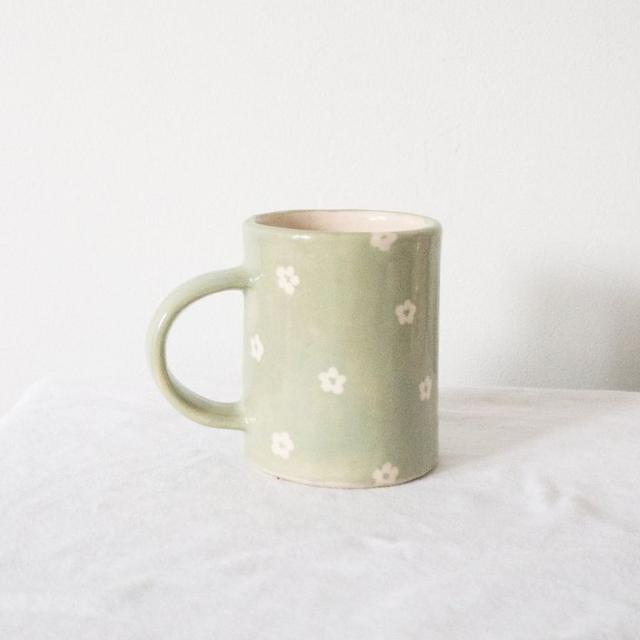glass cup: (145, 209, 444, 488)
